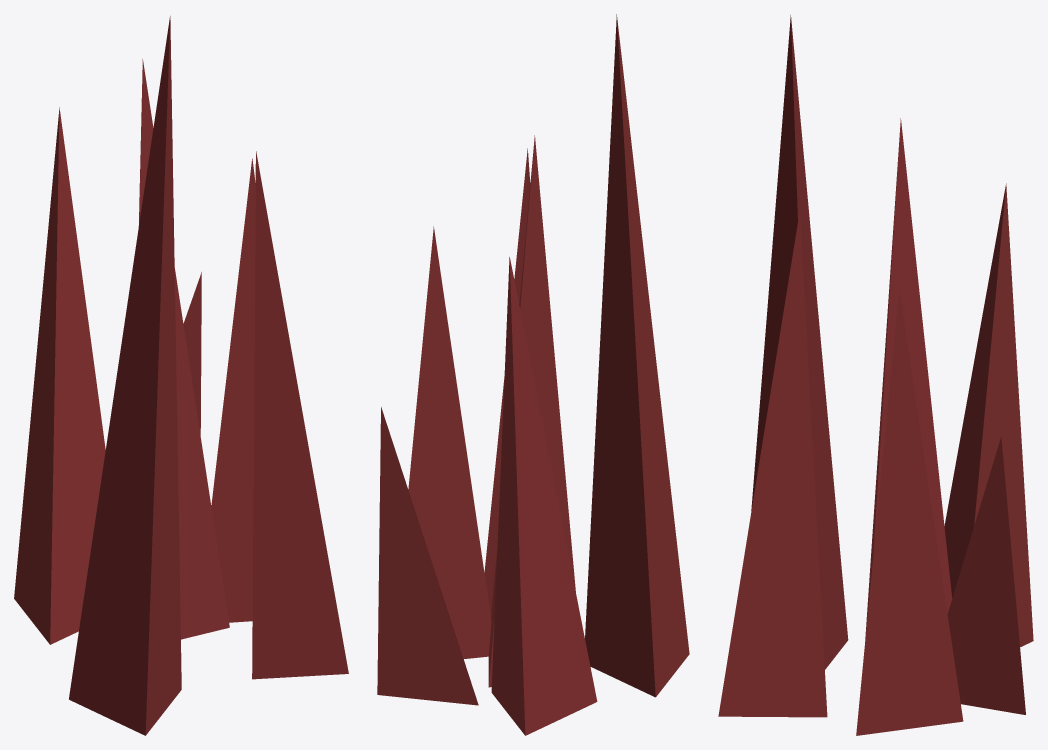
File: grass03.glb
The picture shows the model from 3 angles, left to right: view 1: azimuth 30°, elevation 25°; view 2: azimuth 150°, elevation 25°; view 3: azimuth 270°, elevation 25°; orthographic projection. The views are drawn at different scales.
Parts seen in each view (by area): view 1: Cone; view 2: Cone; view 3: Cone.
Boxes of the visible parts, bbox=[...] form: Cone: bbox=[14, 16, 348, 735]; Cone: bbox=[377, 14, 689, 735]; Cone: bbox=[718, 15, 1033, 735].
Bounding box in the file's own units: 4.24 × 11.43 × 4.95.
